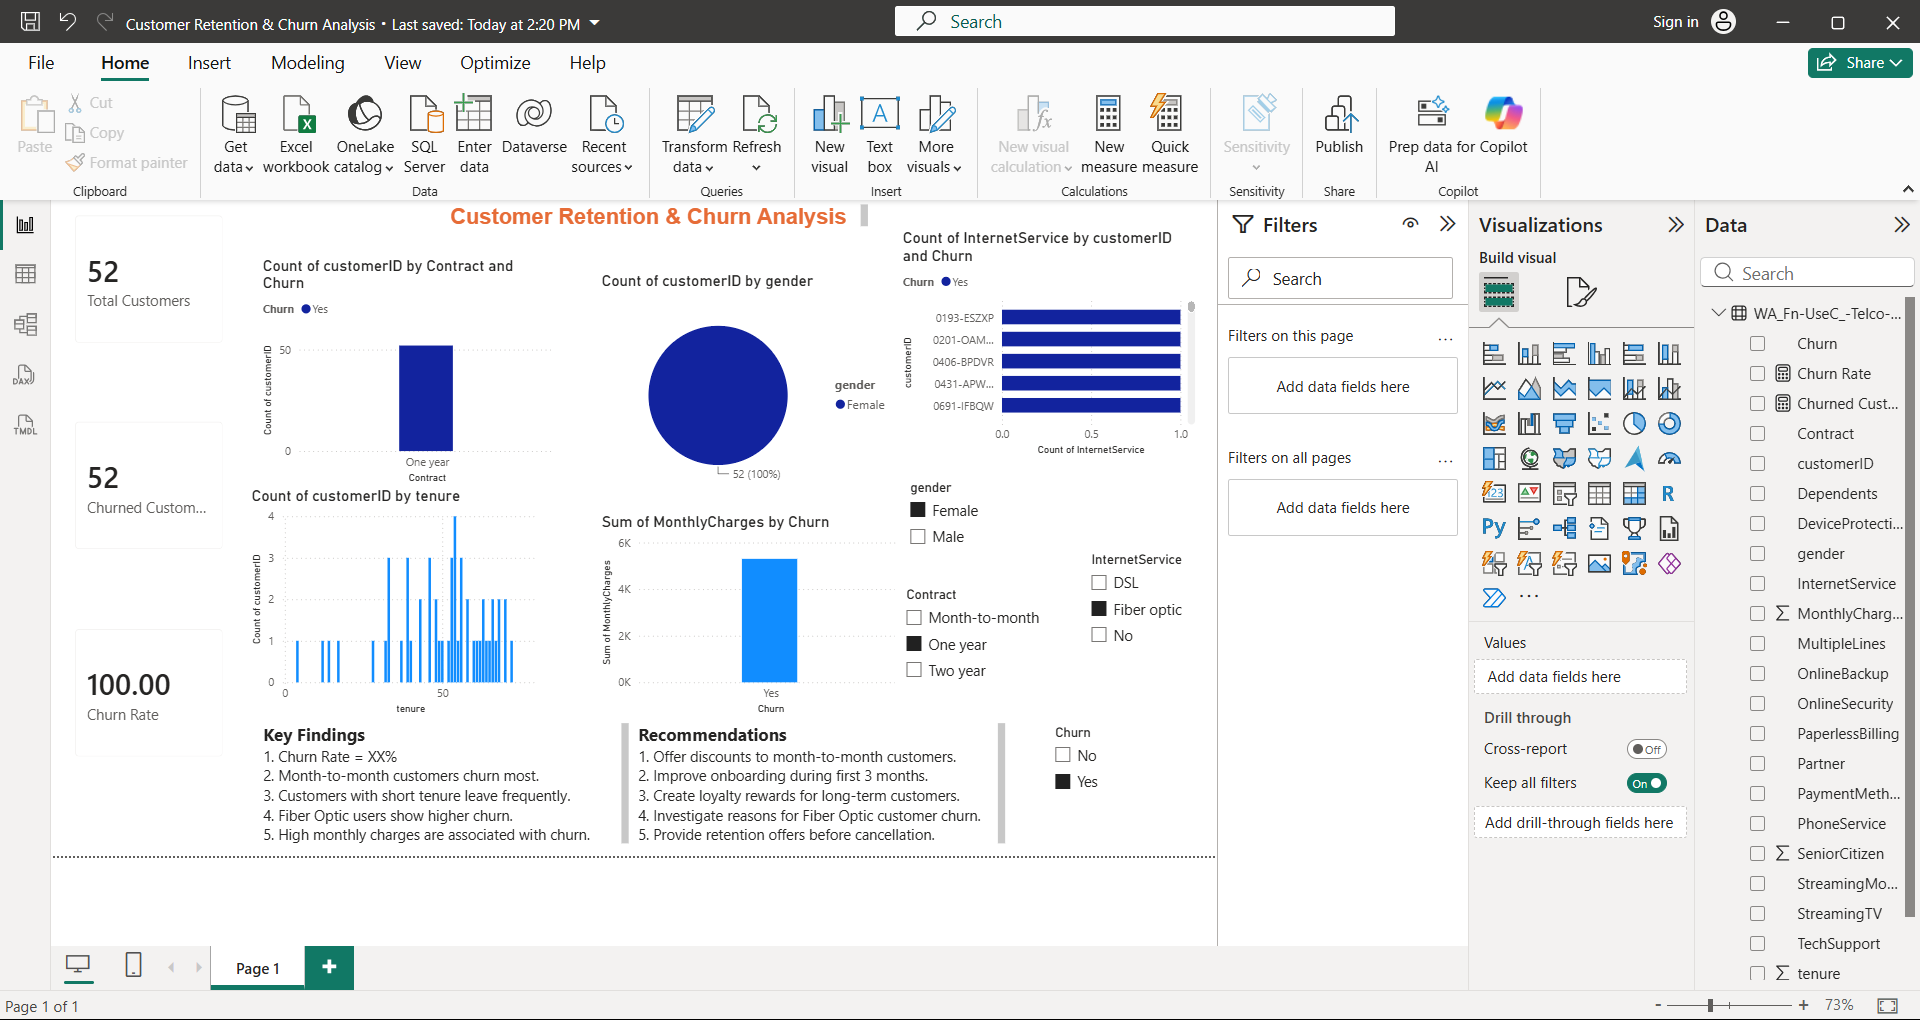

Layout of this report page (visuals, bound fields, positions):
{"tool":"powerbi","page":{"name":"Page 1","canvas":[1280,720],"ordinal":0},"visuals":[{"type":"cardVisual","fields":{"Data":["WA_Fn-UseC_-Telco-Customer-Churn.Total Customers"]},"box":[9.6,0,196.2,174.3],"z":0},{"type":"cardVisual","fields":{"Data":["WA_Fn-UseC_-Telco-Customer-Churn.Churned Customers"]},"box":[10,227,196,174],"z":1000},{"type":"cardVisual","fields":{"Data":["WA_Fn-UseC_-Telco-Customer-Churn.Churn Rate"]},"box":[10,454,196,174],"z":2000},{"type":"clusteredColumnChart","fields":{"Category":["WA_Fn-UseC_-Telco-Customer-Churn.Contract"],"Series":["WA_Fn-UseC_-Telco-Customer-Churn.Churn"],"Y":["CountNonNull(WA_Fn-UseC_-Telco-Customer-Churn.customerID)"]},"box":[258,19.2,330.7,253.9],"z":3000},{"type":"pieChart","fields":{"Category":["WA_Fn-UseC_-Telco-Customer-Churn.gender"],"Y":["CountNonNull(WA_Fn-UseC_-Telco-Customer-Churn.customerID)"]},"box":[599,19,331,254],"z":4000},{"type":"clusteredBarChart","fields":{"Y":["CountNonNull(WA_Fn-UseC_-Telco-Customer-Churn.InternetService)"],"Series":["WA_Fn-UseC_-Telco-Customer-Churn.Churn"],"Category":["WA_Fn-UseC_-Telco-Customer-Churn.customerID"]},"box":[940,19,331,254],"z":5000},{"type":"columnChart","fields":{"Category":["WA_Fn-UseC_-Telco-Customer-Churn.tenure"],"Y":["CountNonNull(WA_Fn-UseC_-Telco-Customer-Churn.customerID)"]},"box":[258,286,331,254],"z":6000},{"type":"clusteredColumnChart","fields":{"Category":["WA_Fn-UseC_-Telco-Customer-Churn.Churn"],"Y":["Sum(WA_Fn-UseC_-Telco-Customer-Churn.MonthlyCharges)"]},"box":[599,286,331,254],"z":7000},{"type":"slicer","fields":{"Values":["WA_Fn-UseC_-Telco-Customer-Churn.gender"]},"box":[940,285.4,179.8,115.3],"z":8000},{"type":"slicer","fields":{"Values":["WA_Fn-UseC_-Telco-Customer-Churn.Contract"]},"box":[940,400,180,150],"z":9000},{"type":"slicer","fields":{"Values":["WA_Fn-UseC_-Telco-Customer-Churn.InternetService"]},"box":[1119.7,343.1,150.9,150.9],"z":10000},{"type":"textbox","box":[258,540.7,381.5,149.6],"z":11000},{"type":"textbox","box":[639.5,540.7,410.3,150.9],"z":12000},{"type":"slicer","fields":{"Values":["WA_Fn-UseC_-Telco-Customer-Churn.Churn"]},"box":[1119.7,540.7,150.9,115.3],"z":13000}]}

Visuals, with their boxes on the page's 1280x720 design canvas (x1, y1, x2, y2). These are canvas units, not pixel positions in the 1920x1020 screenshot, which may show the page scaled, cropped or inside an application window:
cardVisual - WA_Fn-UseC_-Telco-Customer-Churn.Total Customers: left=10, top=0, right=206, bottom=174
cardVisual - WA_Fn-UseC_-Telco-Customer-Churn.Churned Customers: left=10, top=227, right=206, bottom=401
cardVisual - WA_Fn-UseC_-Telco-Customer-Churn.Churn Rate: left=10, top=454, right=206, bottom=628
clusteredColumnChart - WA_Fn-UseC_-Telco-Customer-Churn.Contract x WA_Fn-UseC_-Telco-Customer-Churn.Churn: left=258, top=19, right=589, bottom=273
pieChart - WA_Fn-UseC_-Telco-Customer-Churn.gender x CountNonNull(WA_Fn-UseC_-Telco-Customer-Churn.customerID): left=599, top=19, right=930, bottom=273
clusteredBarChart - CountNonNull(WA_Fn-UseC_-Telco-Customer-Churn.InternetService) x WA_Fn-UseC_-Telco-Customer-Churn.Churn: left=940, top=19, right=1271, bottom=273
columnChart - WA_Fn-UseC_-Telco-Customer-Churn.tenure x CountNonNull(WA_Fn-UseC_-Telco-Customer-Churn.customerID): left=258, top=286, right=589, bottom=540
clusteredColumnChart - WA_Fn-UseC_-Telco-Customer-Churn.Churn x Sum(WA_Fn-UseC_-Telco-Customer-Churn.MonthlyCharges): left=599, top=286, right=930, bottom=540
slicer - WA_Fn-UseC_-Telco-Customer-Churn.gender: left=940, top=285, right=1120, bottom=401
slicer - WA_Fn-UseC_-Telco-Customer-Churn.Contract: left=940, top=400, right=1120, bottom=550
slicer - WA_Fn-UseC_-Telco-Customer-Churn.InternetService: left=1120, top=343, right=1271, bottom=494
textbox: left=258, top=541, right=640, bottom=690
textbox: left=640, top=541, right=1050, bottom=692
slicer - WA_Fn-UseC_-Telco-Customer-Churn.Churn: left=1120, top=541, right=1271, bottom=656
